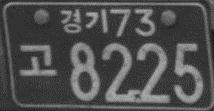2: (136, 42, 170, 103), (101, 42, 135, 102)
3: (134, 8, 156, 37)
5: (172, 41, 203, 104)
7: (109, 8, 131, 37)
8: (69, 41, 100, 102)
경기_O: (59, 9, 108, 33)
고: (17, 43, 57, 77)
